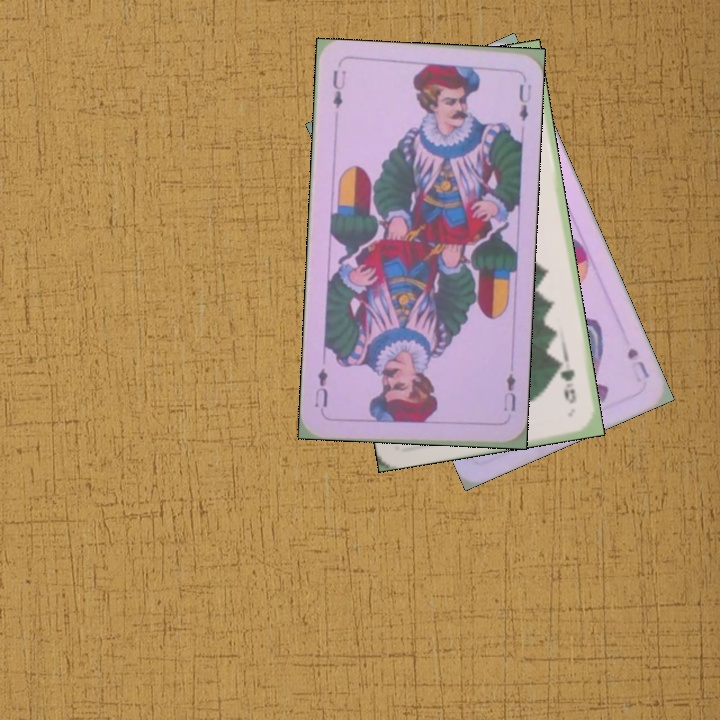EU: (328, 66, 348, 111), (499, 370, 518, 414)
G9: (558, 365, 579, 406)
SU: (623, 344, 652, 381)
